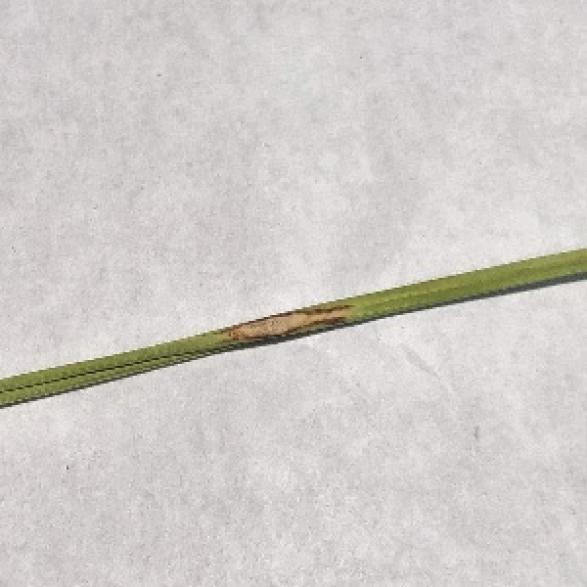Leaf_smut: (184, 288, 350, 358)
